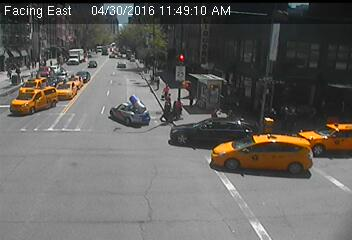neg: (42, 151, 82, 204), (179, 137, 216, 187), (277, 54, 312, 100), (69, 76, 98, 115), (318, 87, 346, 124), (241, 150, 268, 186), (299, 142, 326, 178), (108, 189, 133, 222), (196, 45, 219, 76), (212, 5, 235, 36), (36, 101, 58, 131), (229, 77, 250, 105), (275, 92, 290, 112), (88, 57, 102, 76), (118, 55, 128, 68)
pos: (172, 97, 190, 121), (160, 100, 177, 124), (163, 83, 175, 98), (11, 66, 22, 81), (24, 59, 33, 71), (7, 65, 15, 76), (31, 56, 39, 67), (50, 59, 56, 68)
